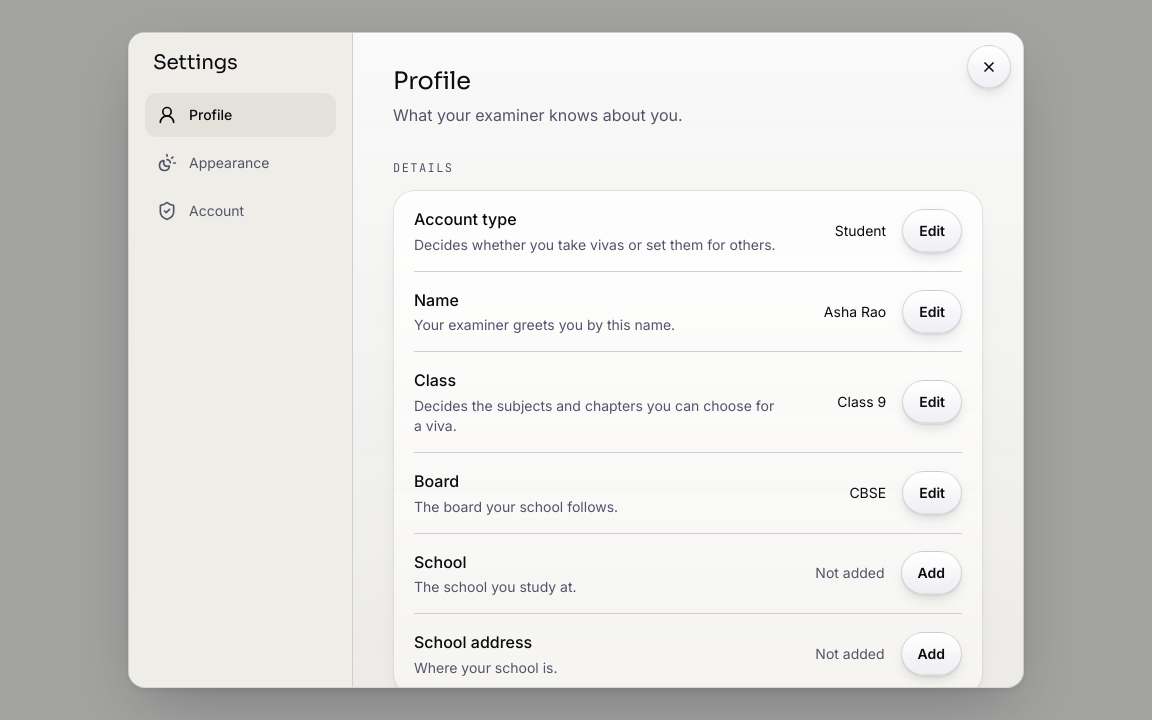
Test case: changing a detail › the row opens in place, on what is saved, with the cursor in it
This screenshot has width=1152, height=720.
What coordinates should you click on to do the following:
click the button with aria-label "Edit name"
I would click on:
 (932, 312)
Its box is x1=902 y1=290 x2=962 y2=334.
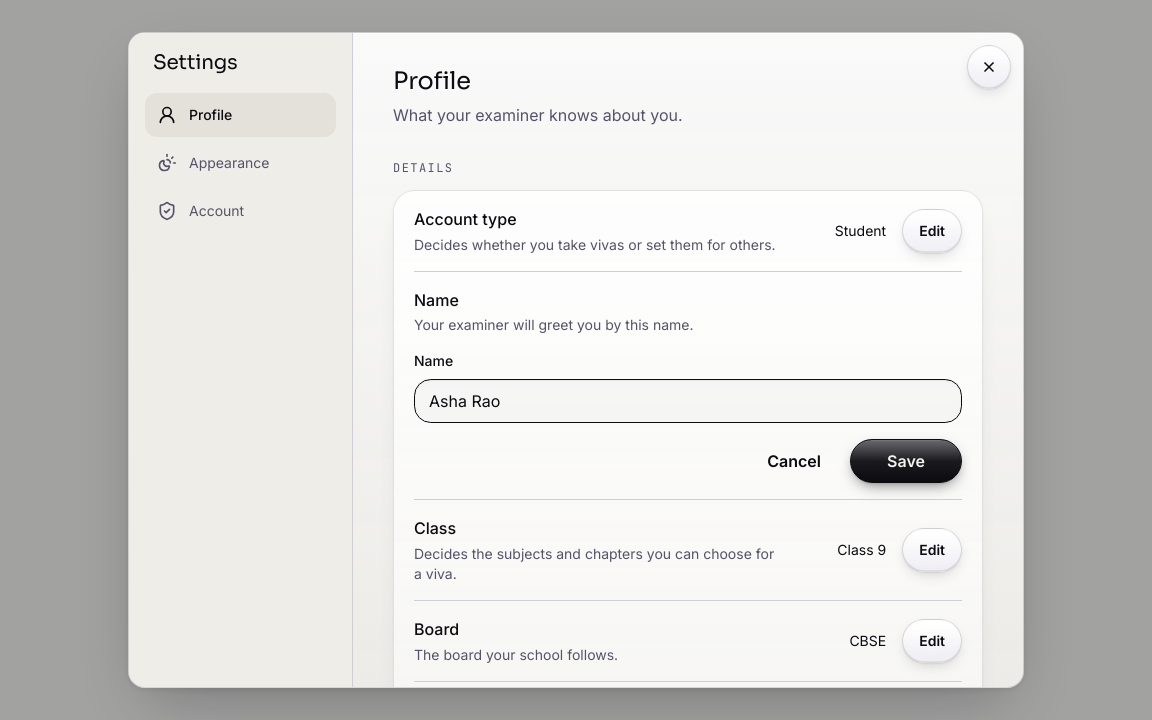
Result: the field labelled "Name" holds "Asha Rao" at x1=414 y1=379 x2=962 y2=423
Result: the text "Your examiner will greet you by this name." is shown at x1=414 y1=316 x2=694 y2=333
